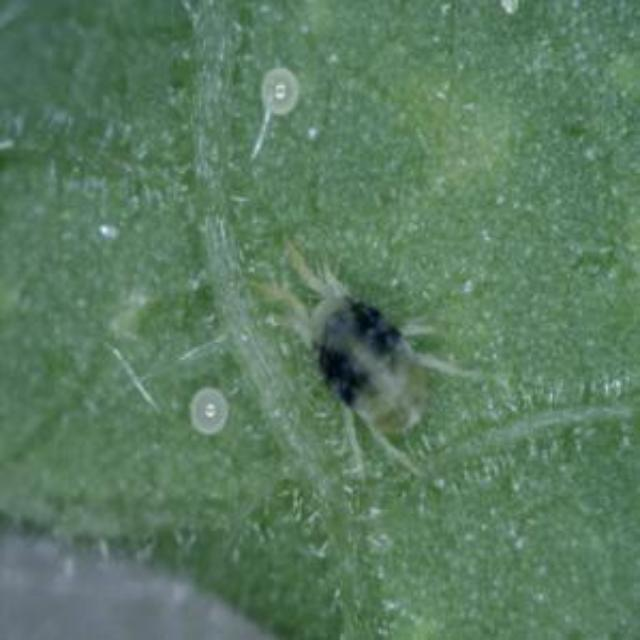spider mite: (180, 220, 466, 478)
